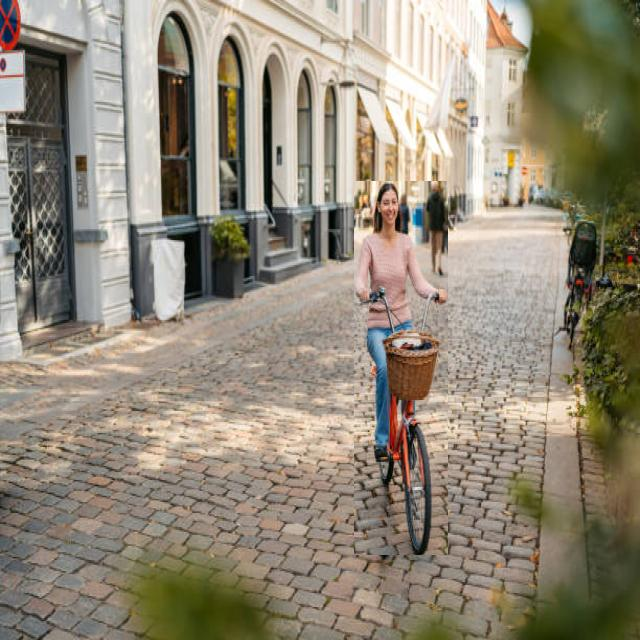bicycle: (355, 182, 448, 555)
